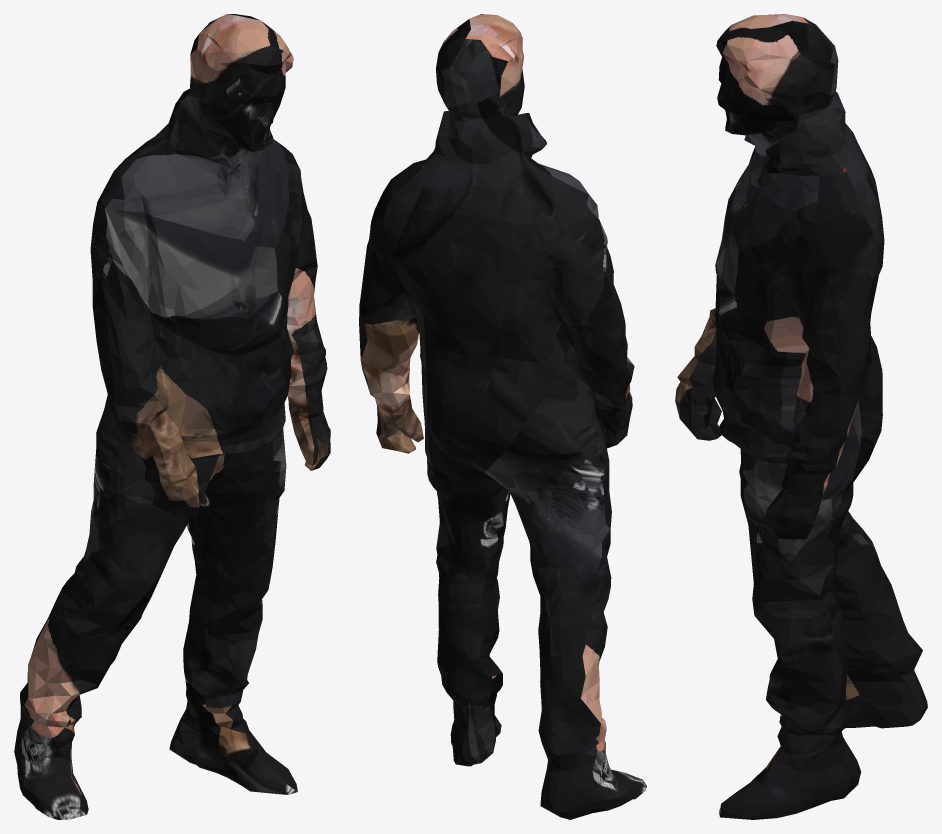
File: man_8.glb
3 renders of one model, left to right at view 1: azimuth 30°, elevation 25°; view 2: azimuth 150°, elevation 25°; view 3: azimuth 270°, elevation 25°, orthographic. The views are drawn at different scales.
Visible parts, largest first — view 1: man_8; view 2: man_8; view 3: man_8.
Boxes of the visible parts, <box> form: man_8: <box>14,14,330,819</box>; man_8: <box>359,14,646,819</box>; man_8: <box>675,14,927,819</box>.
Size of the model in its own units: 0.6652 by 1.69 by 0.4922.
Materials: 1 (1 with a texture image).
